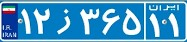character: (53, 5, 77, 37), (77, 6, 100, 38), (99, 4, 121, 37), (122, 5, 143, 37), (32, 5, 52, 37), (166, 12, 182, 38), (19, 6, 32, 37), (148, 12, 162, 38)
